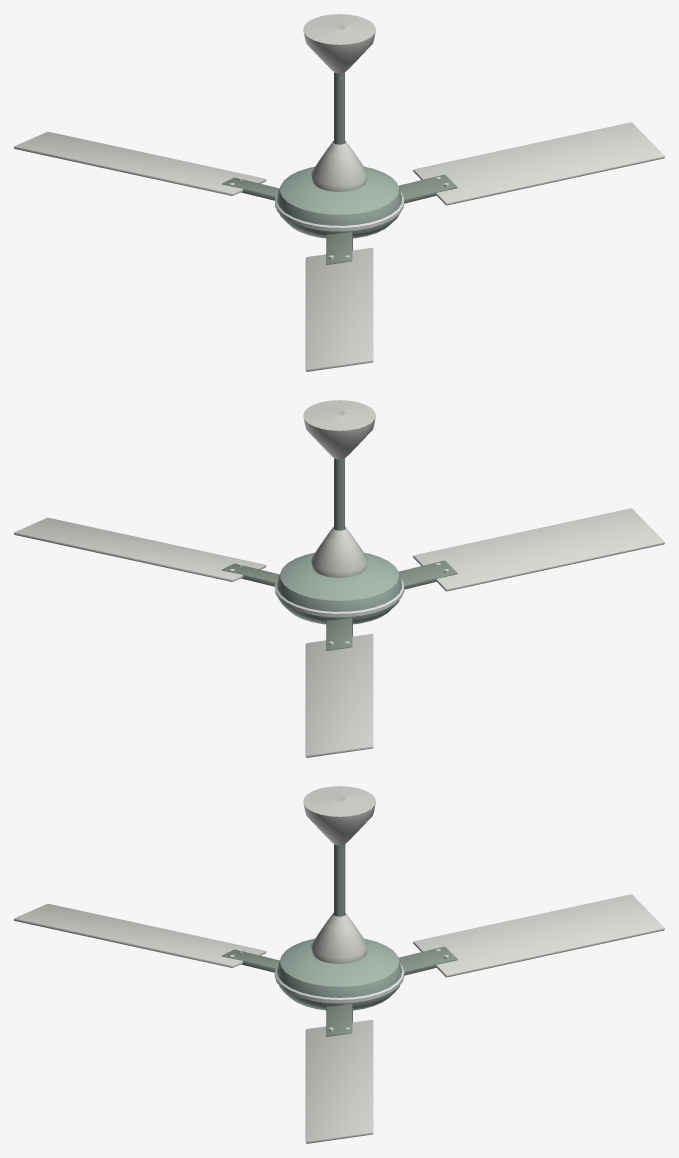
The model's file is CTCC_ENV_CeilingFan.fbx.
3 renders of one model, top to bottom at view 1: azimuth 30°, elevation 25°; view 2: azimuth 150°, elevation 25°; view 3: azimuth 270°, elevation 25°, orthographic.
Visible parts, largest first — view 1: FanRotor, FanMount; view 2: FanRotor, FanMount; view 3: FanRotor, FanMount.
Part boxes in pixels (box(x1,y1,x2,y2)): FanRotor: box(14, 122, 664, 371); FanMount: box(303, 14, 375, 191); FanRotor: box(14, 508, 664, 757); FanMount: box(303, 400, 375, 577); FanRotor: box(14, 894, 664, 1143); FanMount: box(303, 786, 375, 963).
Bounding box in the file's own units: 1.11 × 0.4237 × 1.29.
